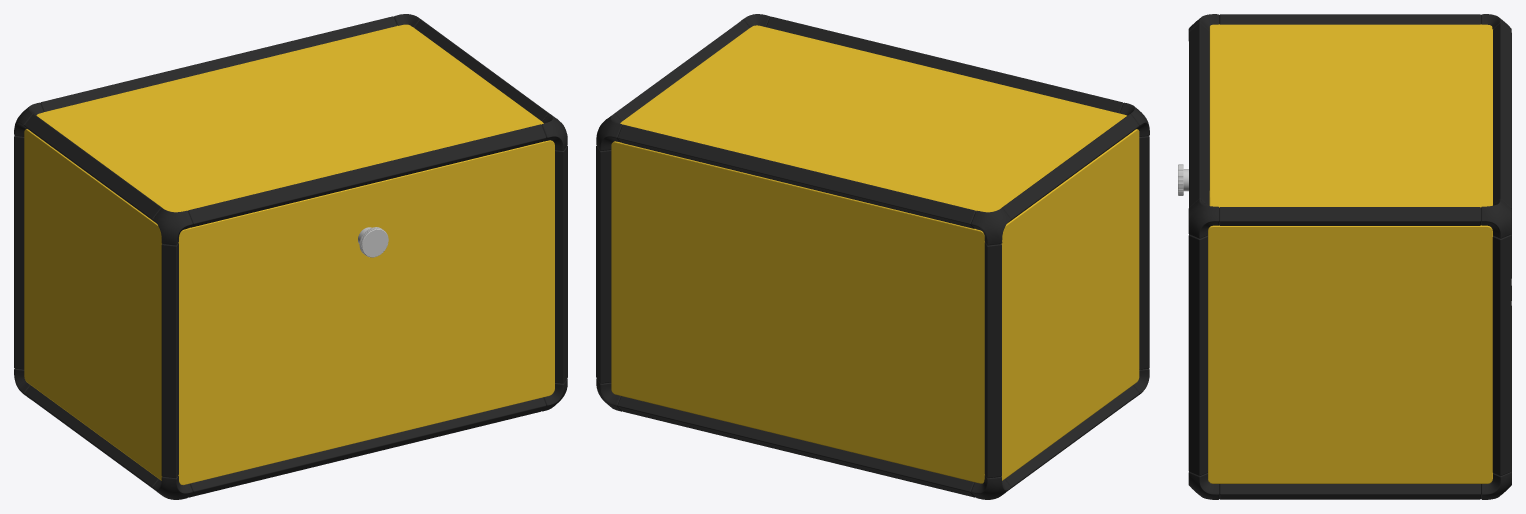
3 views of the same model, side by side, from view 1: azimuth 30°, elevation 25°; view 2: azimuth 150°, elevation 25°; view 3: azimuth 270°, elevation 25° (orthographic).
Visible parts, largest first — view 1: 523x329x329; view 2: 523x329x329; view 3: 523x329x329.
Boxes of the visible parts, x1=… form: 523x329x329: x1=14, y1=14, x2=567, y2=499; 523x329x329: x1=596, y1=14, x2=1149, y2=499; 523x329x329: x1=1178, y1=14, x2=1511, y2=499.
Bounding box in the file's own units: 0.6007 × 0.4067 × 0.4196.
